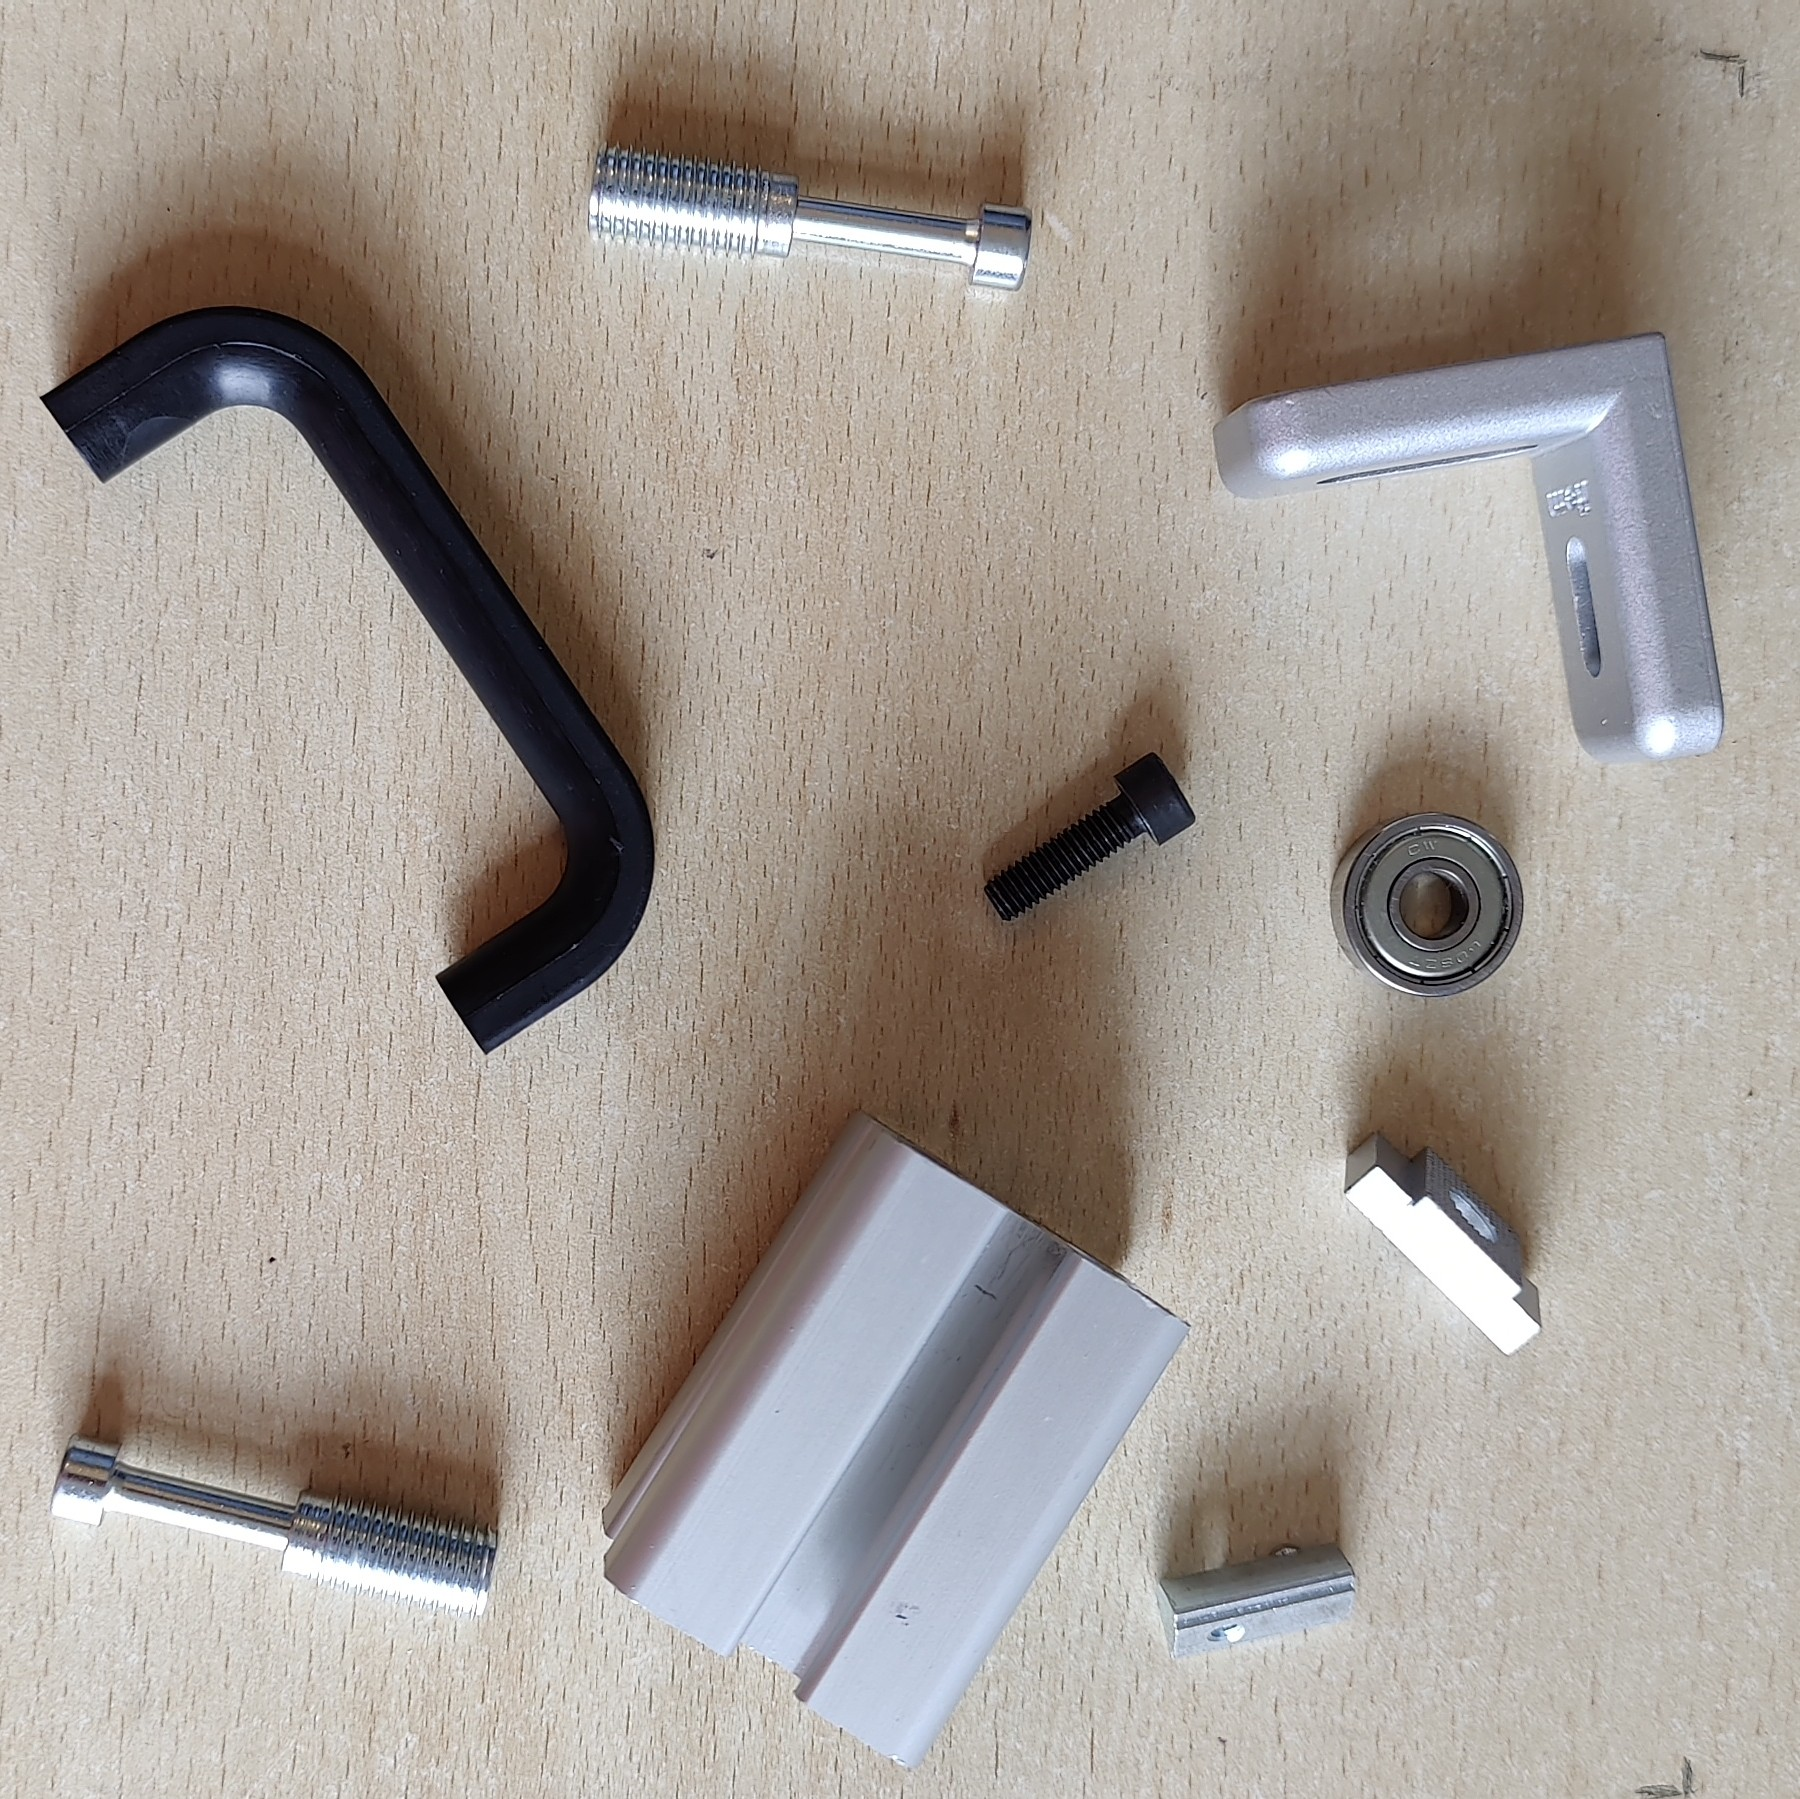Aluminium Extension: (601, 1104, 1192, 1773)
Ball Bearing: (1327, 807, 1527, 1002)
Multiwinkel: (1209, 329, 1728, 769)
Pull Handle: (33, 298, 659, 1058)
Shoulder Socket Head Cap Screw: (48, 1433, 502, 1624), (586, 135, 1034, 295)
Socket Head Cap Screw: (978, 750, 1197, 924)
T Nut Square: (1339, 1125, 1545, 1357)
T Spring Nut: (1149, 1535, 1362, 1662)
